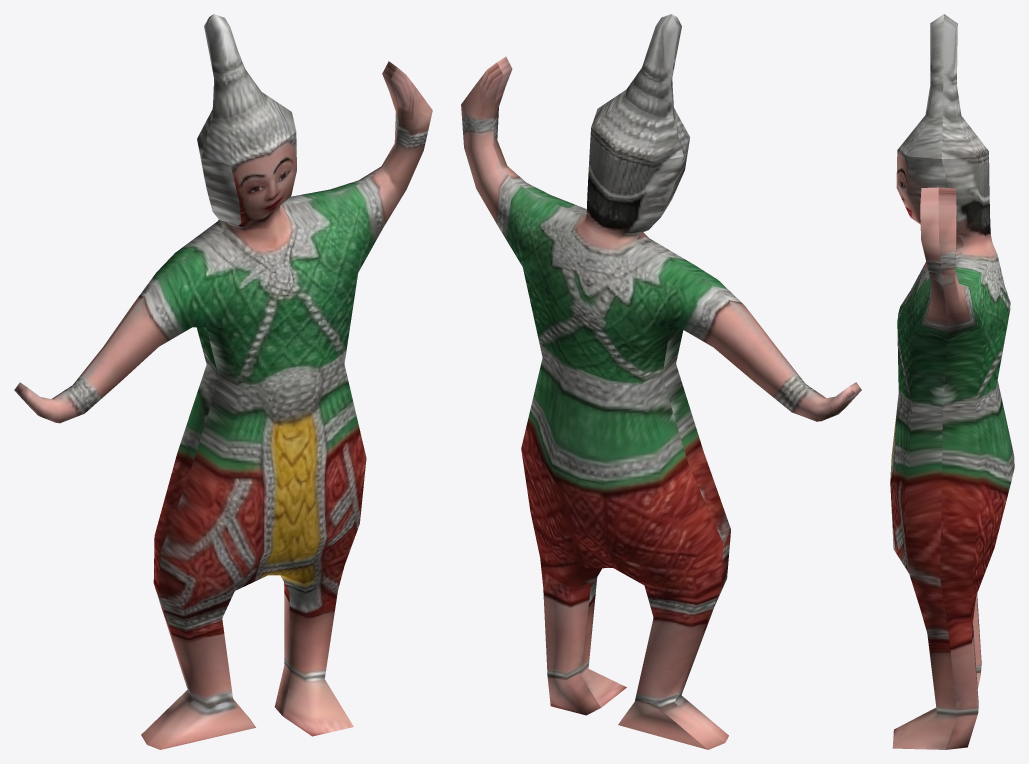
File: DancerDollMan.fbx
3 views of the same model, side by side, from view 1: azimuth 30°, elevation 25°; view 2: azimuth 150°, elevation 25°; view 3: azimuth 270°, elevation 25° (orthographic). The views are drawn at different scales.
Visible parts, largest first — view 1: DancerDollMan; view 2: DancerDollMan; view 3: DancerDollMan.
Boxes of the visible parts, <box> form: DancerDollMan: <box>14,14,432,749</box>; DancerDollMan: <box>461,14,861,749</box>; DancerDollMan: <box>890,14,1014,749</box>.
Size of the model in its own units: 5.43 by 9.35 by 1.55.
1 material, 1 textured.
